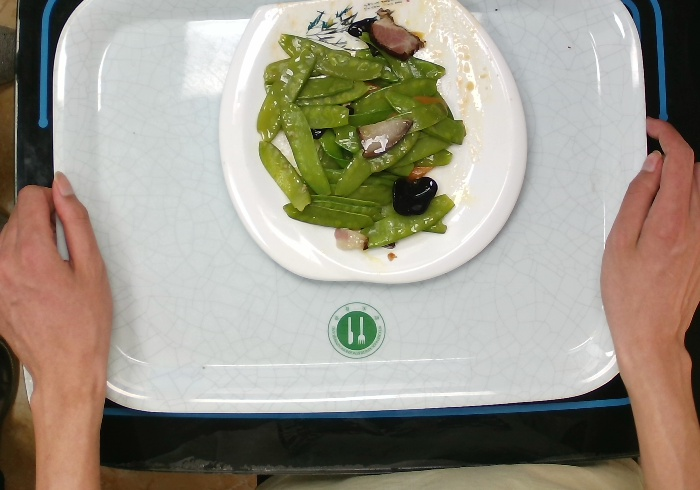JYsf-Mian_Pan: (213, 1, 530, 289)
